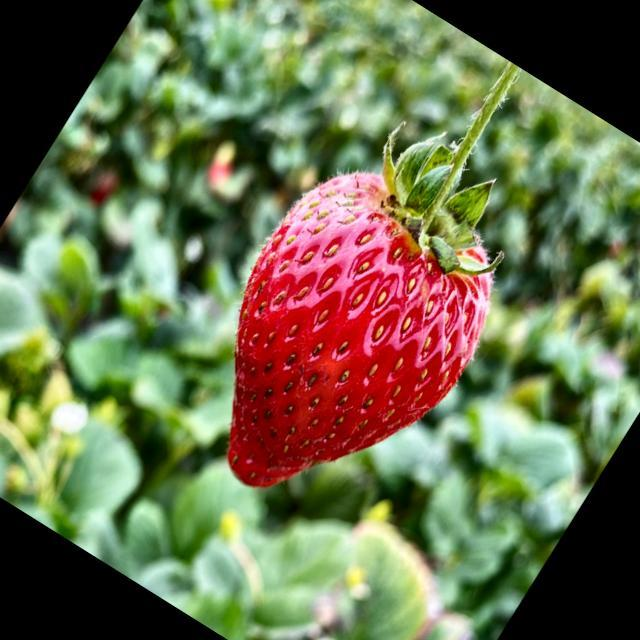strawberry: (228, 66, 516, 486)
